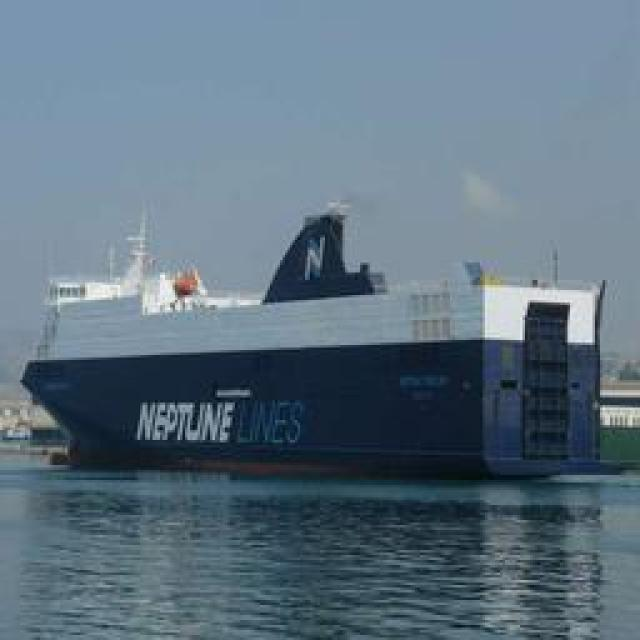CIV_Ship: (19, 190, 626, 482)
